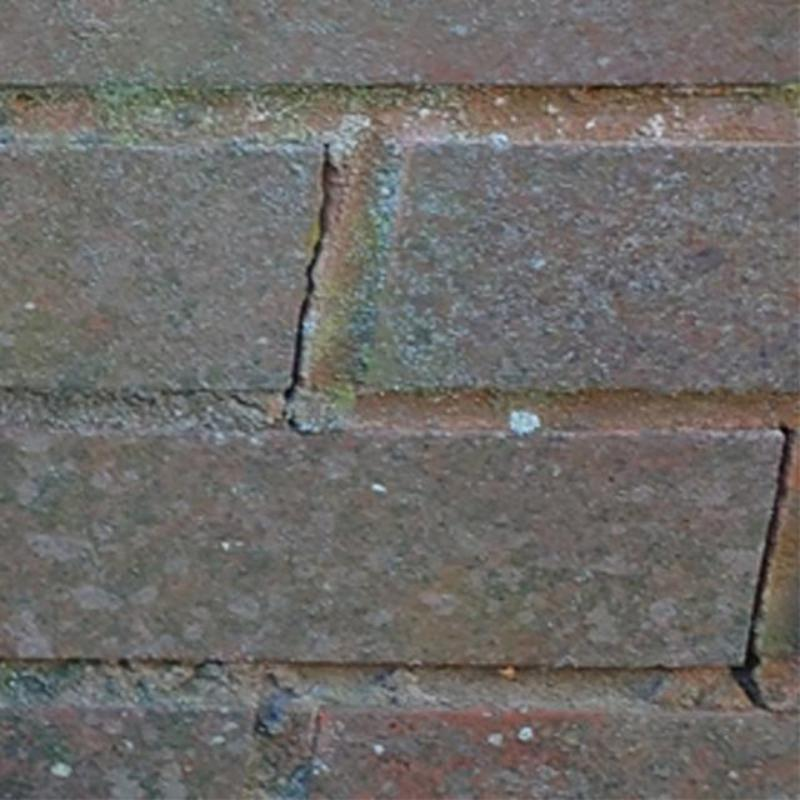crack: (730, 428, 795, 708), (289, 144, 334, 399)
